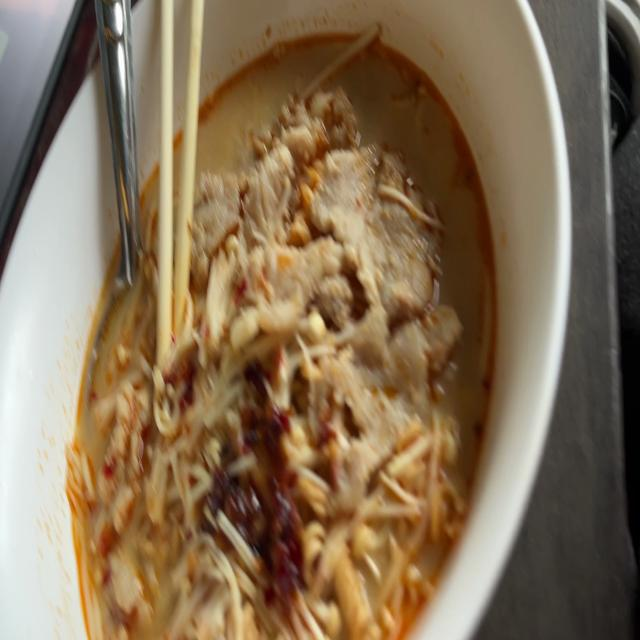noodle: (62, 9, 518, 640)
